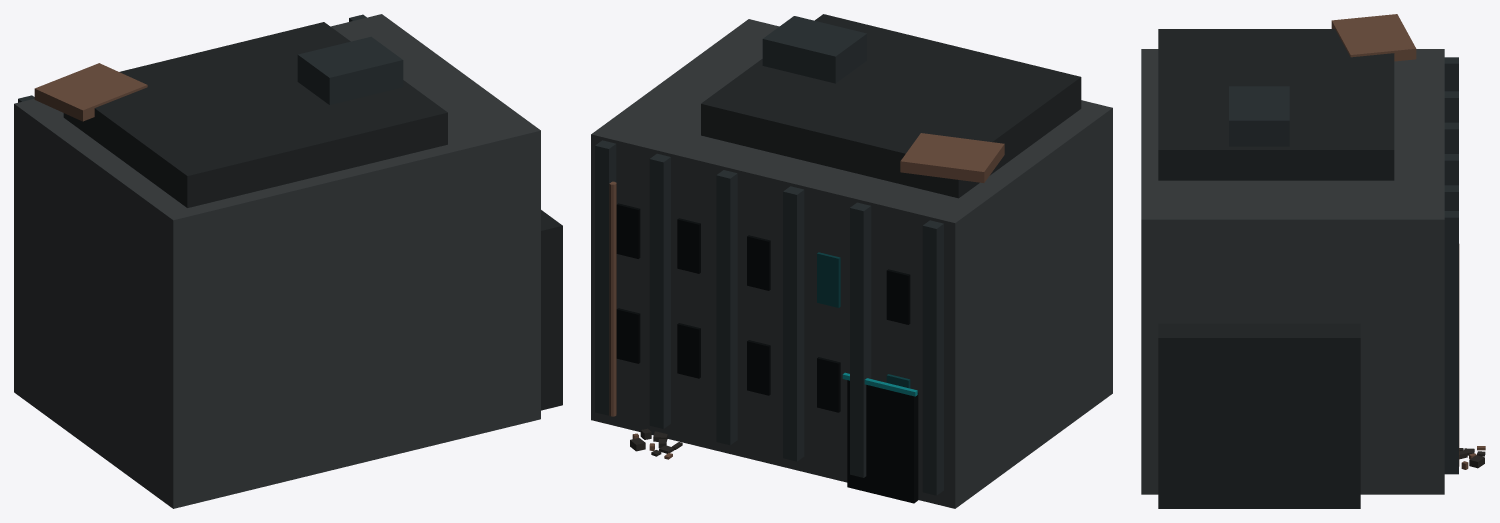
The model's file is RuinedLowrise_A.obj.
3 renders of one model, left to right at view 1: azimuth 30°, elevation 25°; view 2: azimuth 150°, elevation 25°; view 3: azimuth 270°, elevation 25°, orthographic. The views are drawn at different scales.
Visible parts, largest first — view 1: Architecture, Props, Damage; view 2: Architecture, Facade, Windows, Entrance, Props, Damage, Pipes, Debris; view 3: Architecture, Facade, Props, Damage, Debris.
Boxes of the visible parts, x1,y1,x2,y2 form: Architecture: (14,14,562,508); Props: (297,36,403,104); Damage: (34,63,147,121); Architecture: (591,14,1112,508); Facade: (595,140,943,495); Windows: (616,203,910,412); Entrance: (847,380,918,503); Props: (762,16,866,83); Damage: (900,133,1004,182); Pipes: (609,181,616,416); Debris: (630,428,682,459); Architecture: (1141,29,1444,508); Facade: (1444,57,1458,474); Props: (1229,86,1289,146); Damage: (1331,14,1416,61); Debris: (1459,446,1485,469).
Size of the model in its own units: 13.14 by 10.85 by 10.21.
